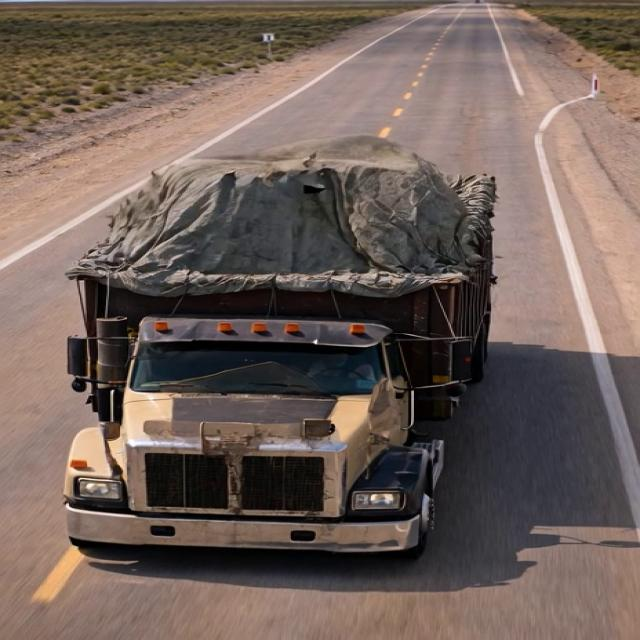Box: (66, 137, 493, 289)
Truck: (53, 112, 533, 559)
